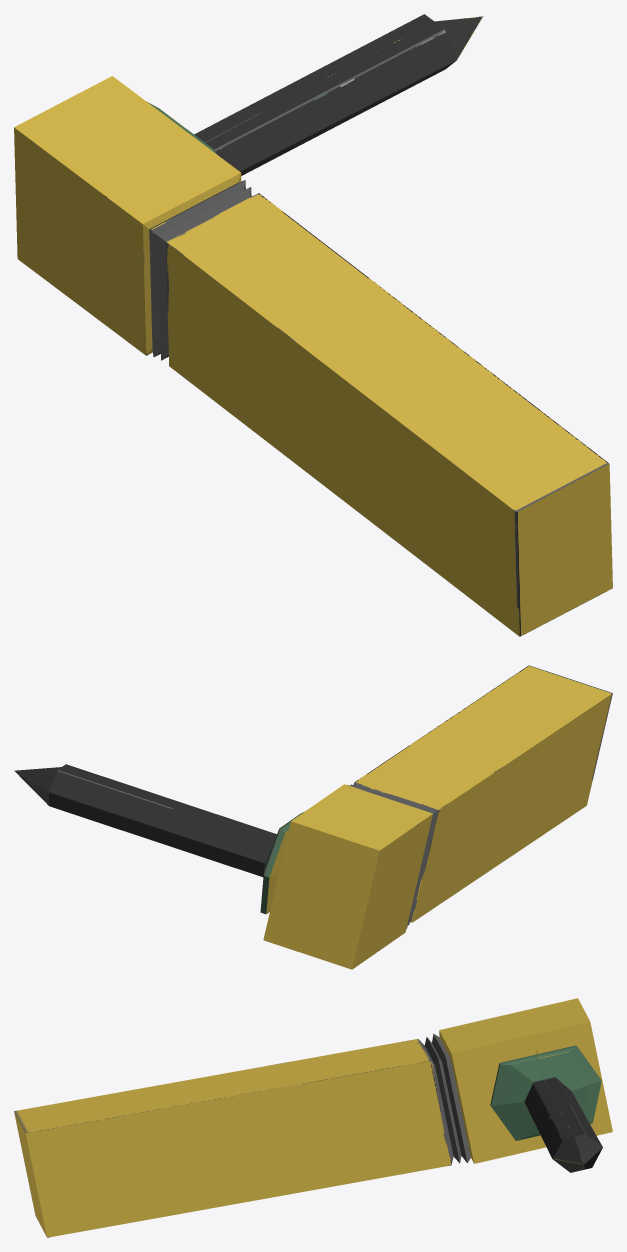
The model's file is cuchillo.fbx.
3 renders of one model, top to bottom at view 1: azimuth 30°, elevation 25°; view 2: azimuth 150°, elevation 25°; view 3: azimuth 270°, elevation 25°, orthographic. The views are drawn at different scales.
Parts seen in each view (by area): view 1: Cube; view 2: Cube; view 3: Cube.
Part boxes in pixels (x1,y1,x2,y2): Cube: [14, 14, 612, 636]; Cube: [14, 665, 612, 969]; Cube: [14, 998, 612, 1237].
Size of the model in its own units: 849 by 468 by 1332.
1 material, 1 textured.
